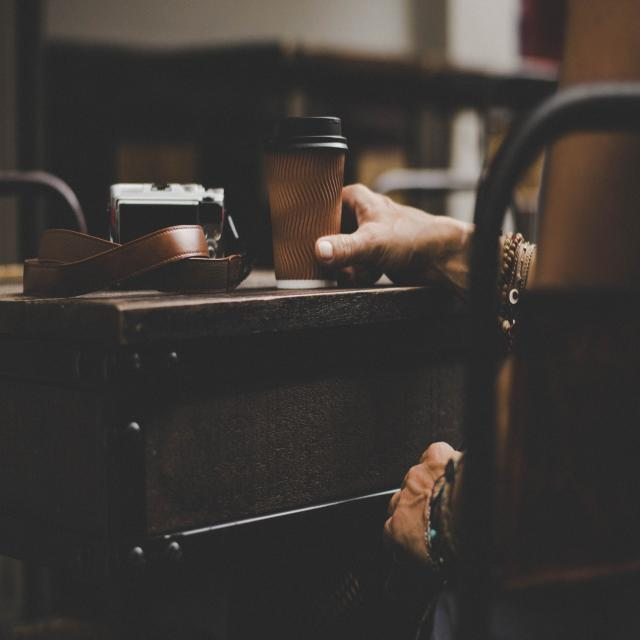cup: (260, 114, 349, 289)
